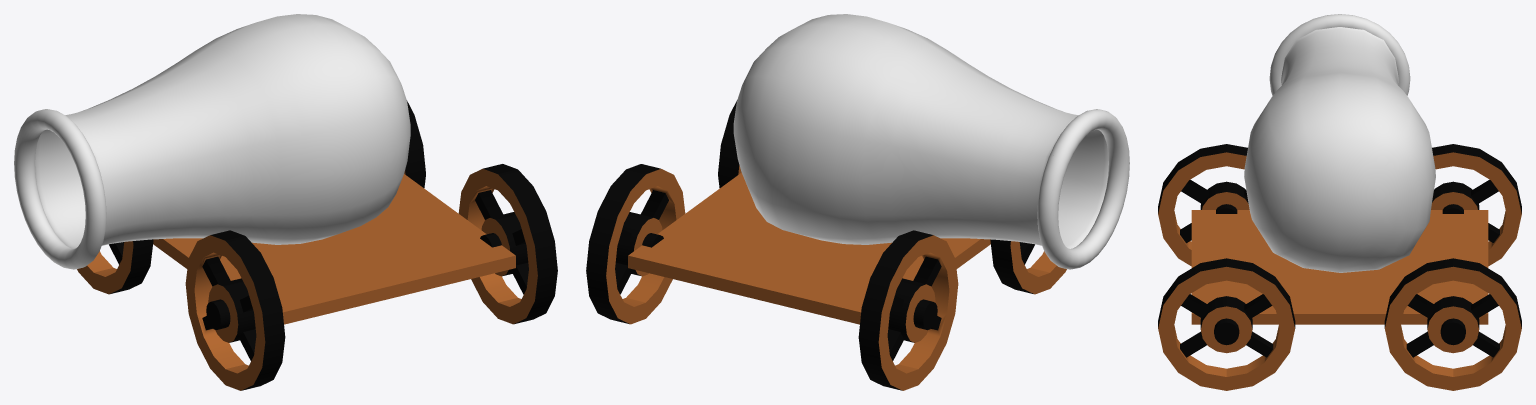
Rendered from Cannon.fbx.
The picture shows the model from 3 angles, left to right: view 1: azimuth 30°, elevation 25°; view 2: azimuth 150°, elevation 25°; view 3: azimuth 270°, elevation 25°; orthographic projection. The views are drawn at different scales.
Visible parts, largest first — view 1: CannonHead, Cube; view 2: CannonHead, Cube; view 3: Cube, CannonHead.
Part boxes in pixels (x1,y1,x2,y2): CannonHead: (14,14,410,269); Cube: (77,101,557,390); CannonHead: (733,14,1129,269); Cube: (586,100,1066,390); Cube: (1158,144,1521,390); CannonHead: (1244,14,1435,272).
Size of the model in its own units: 555 by 354 by 492.
